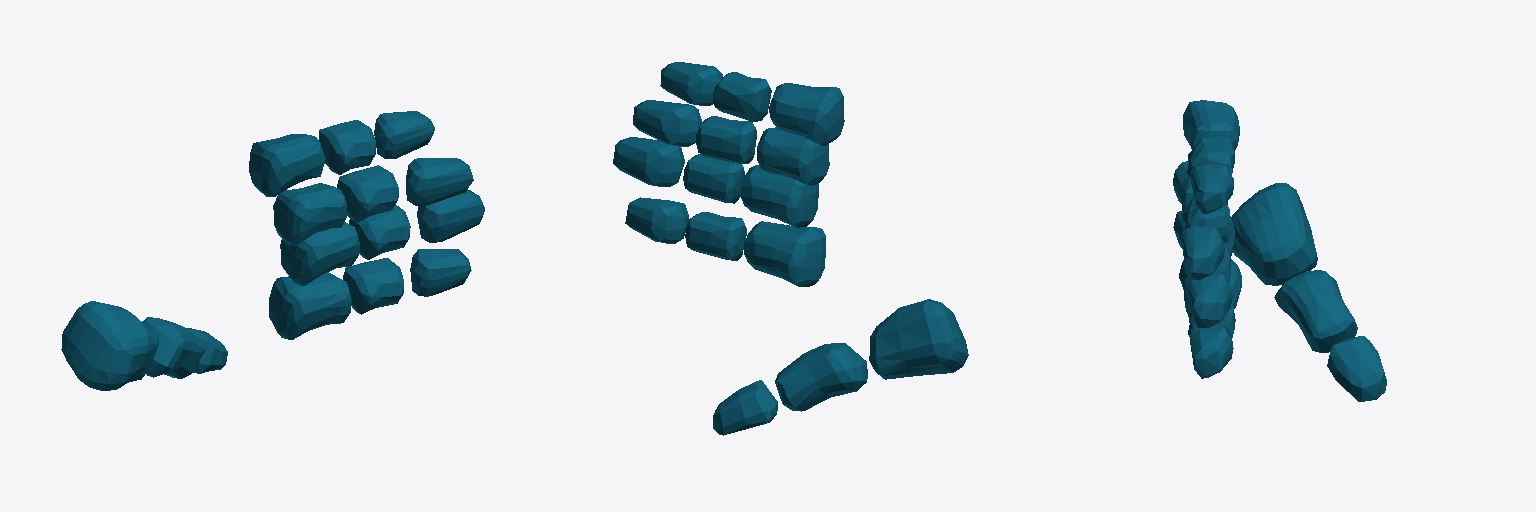
Rendered from optimized_fingers.obj.
3 renders of one model, left to right at view 1: azimuth 30°, elevation 25°; view 2: azimuth 150°, elevation 25°; view 3: azimuth 270°, elevation 25°, orthographic.
Bounding box in the file's own units: 20.73 × 15.03 × 10.15.